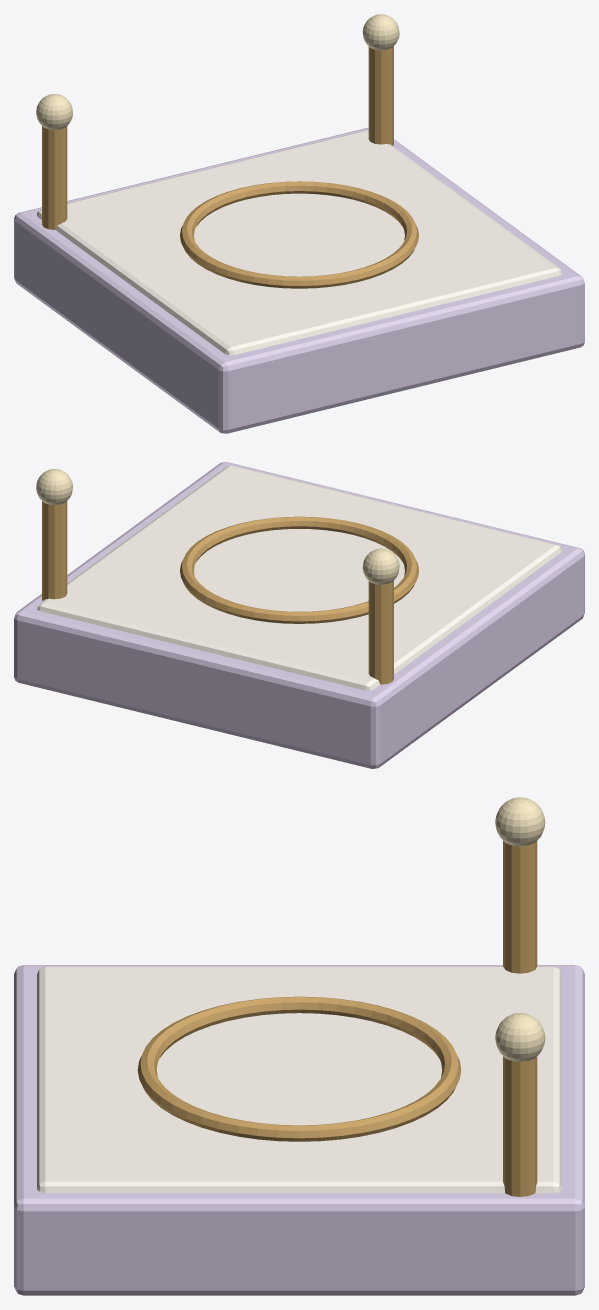
File: lift.glb
3 renders of one model, top to bottom at view 1: azimuth 30°, elevation 25°; view 2: azimuth 150°, elevation 25°; view 3: azimuth 270°, elevation 25°, orthographic. The views are drawn at different scales.
Visible parts, largest first — view 1: Lift marble, Lift platform, Lift rune, Lift corner, Lift corner.001, Lift pearl.001, Lift pearl; view 2: Lift marble, Lift platform, Lift rune, Lift corner, Lift corner.001, Lift pearl, Lift pearl.001; view 3: Lift marble, Lift platform, Lift rune, Lift corner.001, Lift corner, Lift pearl.001, Lift pearl.
Boxes of the visible parts, left/top/right/bottom form: Lift marble: left=37, top=130, right=561, bottom=355; Lift platform: left=14, top=127, right=584, bottom=433; Lift rune: left=180, top=181, right=418, bottom=288; Lift corner: left=42, top=126, right=67, bottom=229; Lift corner.001: left=368, top=46, right=393, bottom=145; Lift pearl.001: left=362, top=14, right=399, bottom=50; Lift pearl: left=36, top=94, right=72, bottom=129; Lift marble: left=37, top=465, right=561, bottom=690; Lift platform: left=14, top=462, right=584, bottom=768; Lift rune: left=180, top=516, right=418, bottom=623; Lift corner: left=368, top=580, right=393, bottom=684; Lift corner.001: left=42, top=501, right=67, bottom=600; Lift pearl: left=362, top=548, right=399, bottom=584; Lift pearl.001: left=36, top=469, right=72, bottom=504; Lift marble: left=37, top=966, right=561, bottom=1192; Lift platform: left=14, top=965, right=584, bottom=1295; Lift rune: left=137, top=996, right=461, bottom=1141; Lift corner.001: left=503, top=1056, right=537, bottom=1196; Lift corner: left=503, top=841, right=537, bottom=973; Lift pearl.001: left=495, top=1013, right=545, bottom=1061; Lift pearl: left=495, top=797, right=545, bottom=846.
Size of the model in its own units: 1.5 by 0.786 by 1.5.
